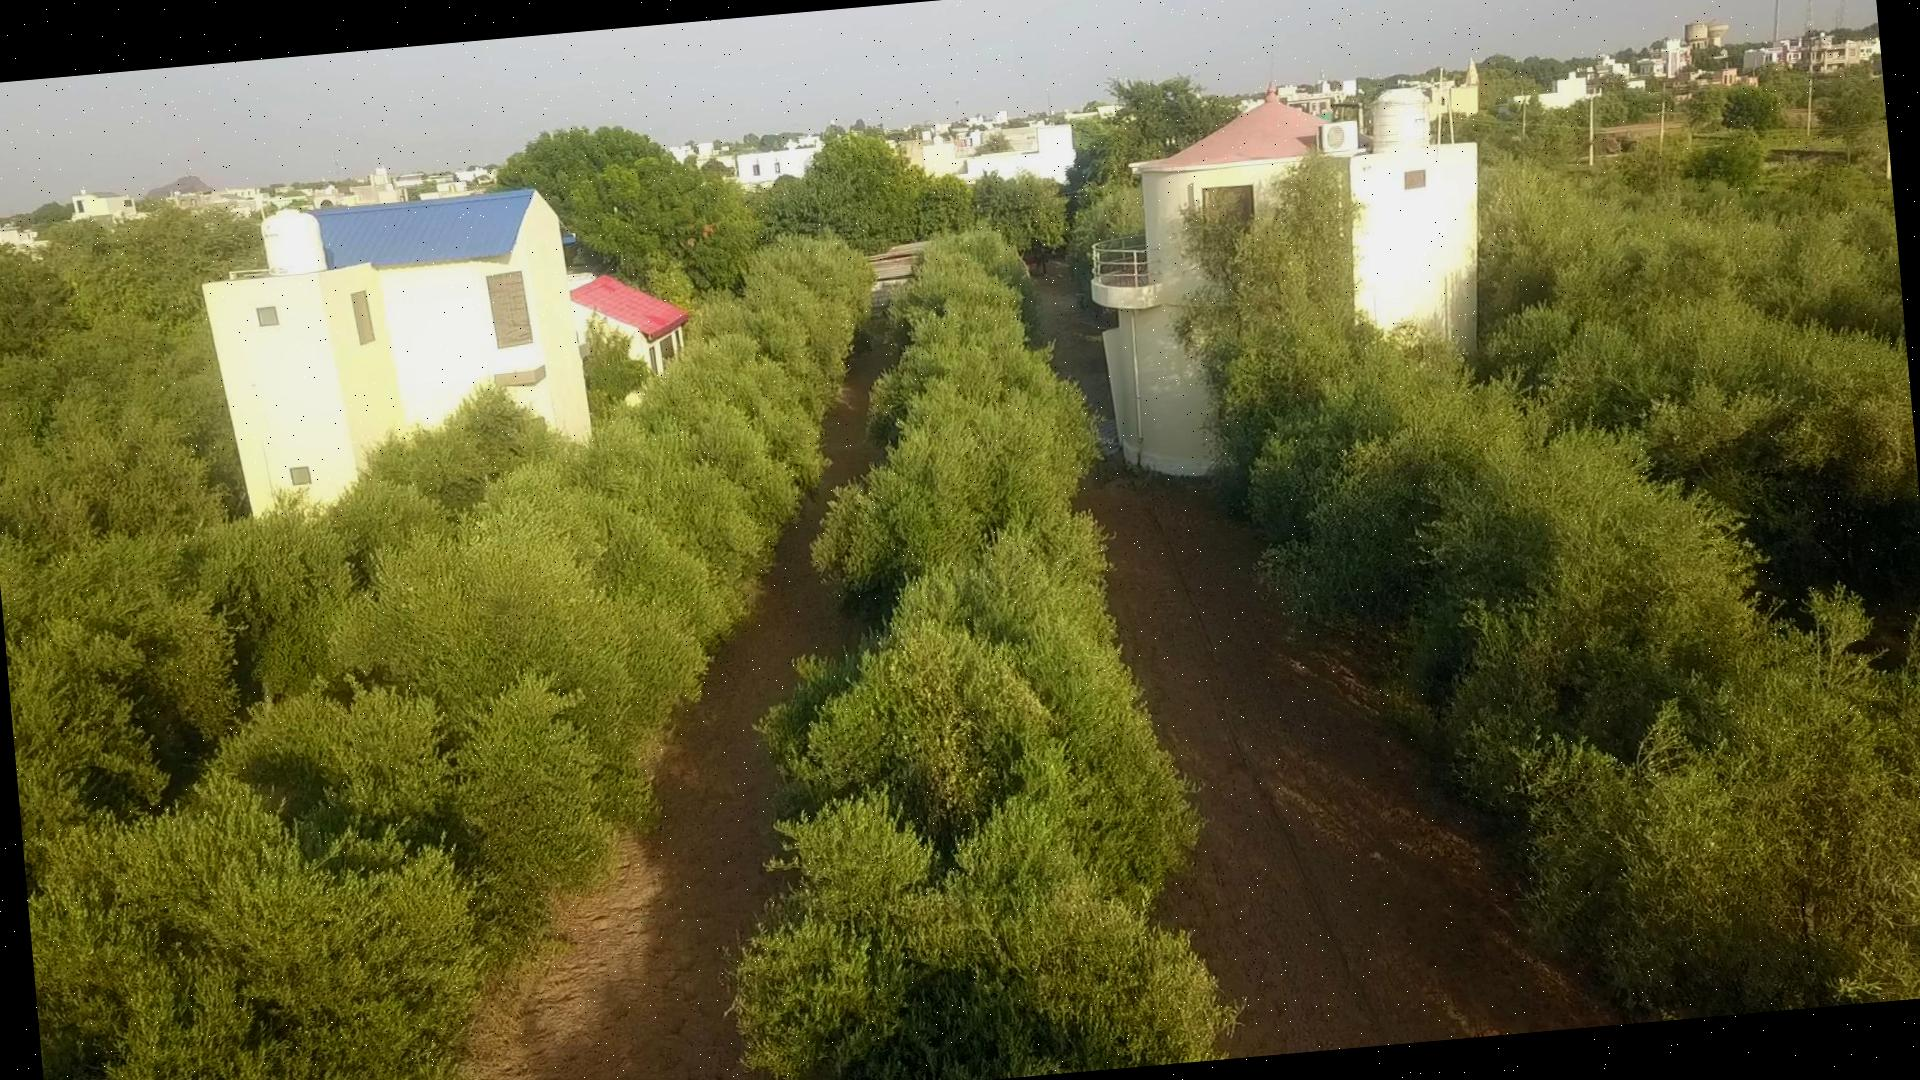canopy: (28, 237, 877, 1080), (1184, 167, 1920, 1010), (733, 228, 1237, 1080), (0, 388, 566, 876), (1470, 161, 1920, 604)
road: (1079, 454, 1619, 1058), (473, 345, 881, 1080)
